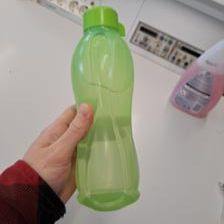bottle: (72, 6, 144, 212)
